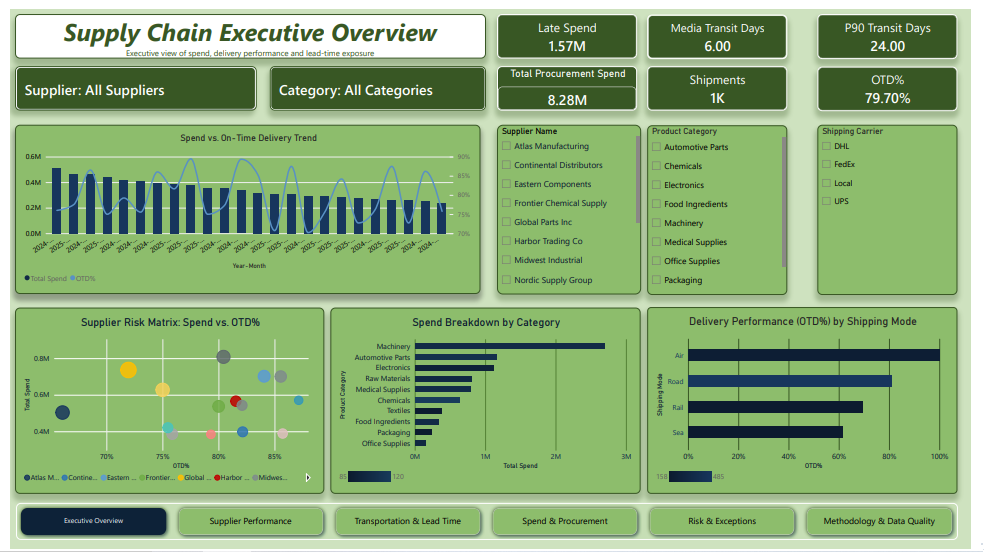

This screenshot's page, from the dashboard's own definition file:
{"tool":"powerbi","page":{"name":"Executive Overview","canvas":[1920,1080],"ordinal":0},"visuals":[{"type":"cardVisual","fields":{"Data":["_Measures.Media Transit Days"]},"box":[1273,11,280,88.6],"z":0},{"type":"lineClusteredColumnComboChart","title":"Spend vs. On-Time Delivery Trend","fields":{"Category":["DimDate.Year-Month"],"Y":["_Measures.Total Spend"],"Y2":["_Measures.OTD%"]},"box":[10,231,930,337.5],"z":1000},{"type":"scatterChart","title":"Supplier Risk Matrix: Spend vs. OTD%","fields":{"Series":["DimSupplier.Supplier Name"],"Size":["_Measures.Late Spend"],"X":["_Measures.OTD%"],"Y":["_Measures.Total Spend"]},"box":[10,595.6,617.8,372.2],"z":2000},{"type":"barChart","title":"Spend Breakdown by Category","fields":{"Category":["FactShipments.Product Category"],"Y":["_Measures.Total Spend"]},"box":[640,596,620,372],"z":3000},{"type":"barChart","title":"Delivery Performance (OTD%) by Shipping Mode","fields":{"Category":["FactShipments.Shipping Mode"],"Y":["_Measures.OTD%"]},"box":[1273,595,620,373],"z":4000},{"type":"slicer","fields":{"Values":["DimSupplier.Supplier Name"]},"box":[973,231,288,339],"z":5000},{"type":"slicer","fields":{"Values":["DimProduct.Product Category"]},"box":[1273,232,280,339],"z":6000},{"type":"slicer","fields":{"Values":["DimTransportation.Shipping Carrier"]},"box":[1613,231,280,340],"z":7000},{"type":"cardVisual","fields":{"Data":["_Measures.Titulo Supplier"]},"box":[10,114,482.5,88.8],"z":9000},{"type":"cardVisual","fields":{"Data":["_Measures.Titulo Categoria"]},"box":[519,114,432,89],"z":10000},{"type":"textbox","box":[100,100,603.8,300],"z":11000},{"type":"textbox","box":[10,10,941.2,88.8],"z":12000},{"type":"cardVisual","fields":{"Data":["_Measures.Late Spend"]},"box":[972.5,10,280,88.8],"z":13000},{"type":"cardVisual","fields":{"Data":["_Measures.P90 Transit Days"]},"box":[1612.5,10,280,90],"z":14000},{"type":"cardVisual","fields":{"Data":["_Measures.OTD%"]},"box":[1613,115,280,88.8],"z":15000},{"type":"cardVisual","fields":{"Data":["_Measures.Shipments"]},"box":[1273,114,280,88.8],"z":16000},{"type":"cardVisual","title":"Total Procurement Spend","fields":{"Data":["_Measures.Total Spend"]},"box":[973,114,280,88.9],"z":17000},{"type":"pageNavigator","box":[12,986,1882,74],"z":18000}]}

Visuals, with their boxes in screenshot pixels (x1, y1, x2, y2), scaled from the page's 1920x1080 canvas onto the 984x552 screenshot:
cardVisual - _Measures.Media Transit Days: (left=652, top=6, right=796, bottom=51)
"Spend vs. On-Time Delivery Trend" lineClusteredColumnComboChart: (left=5, top=118, right=482, bottom=291)
"Supplier Risk Matrix: Spend vs. OTD%" scatterChart: (left=5, top=304, right=322, bottom=495)
"Spend Breakdown by Category" barChart: (left=328, top=305, right=646, bottom=495)
"Delivery Performance (OTD%) by Shipping Mode" barChart: (left=652, top=304, right=970, bottom=495)
slicer - DimSupplier.Supplier Name: (left=499, top=118, right=646, bottom=291)
slicer - DimProduct.Product Category: (left=652, top=119, right=796, bottom=292)
slicer - DimTransportation.Shipping Carrier: (left=827, top=118, right=970, bottom=292)
cardVisual - _Measures.Titulo Supplier: (left=5, top=58, right=252, bottom=104)
cardVisual - _Measures.Titulo Categoria: (left=266, top=58, right=487, bottom=104)
textbox: (left=51, top=51, right=361, bottom=204)
textbox: (left=5, top=5, right=487, bottom=50)
cardVisual - _Measures.Late Spend: (left=498, top=5, right=642, bottom=50)
cardVisual - _Measures.P90 Transit Days: (left=826, top=5, right=970, bottom=51)
cardVisual - _Measures.OTD%: (left=827, top=59, right=970, bottom=104)
cardVisual - _Measures.Shipments: (left=652, top=58, right=796, bottom=104)
"Total Procurement Spend" cardVisual: (left=499, top=58, right=642, bottom=104)
pageNavigator: (left=6, top=504, right=971, bottom=542)
